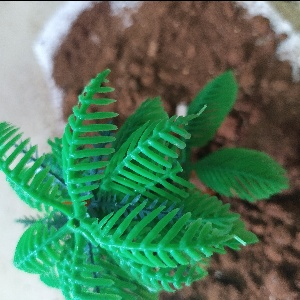plant: (1, 65, 289, 300)
